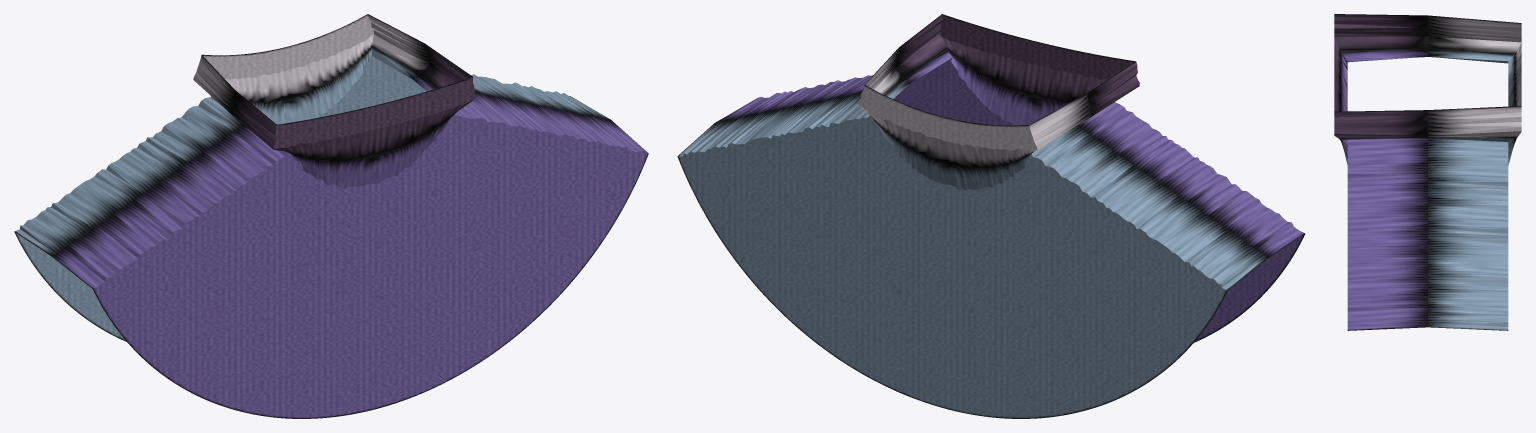
File: valid_garment_lower_boxmesh.obj
The picture shows the model from 3 angles, left to right: view 1: azimuth 30°, elevation 25°; view 2: azimuth 150°, elevation 25°; view 3: azimuth 270°, elevation 25°; orthographic projection. The views are drawn at different scales.
Bounding box in the file's own units: 123 × 66.32 × 35.
Materials: 1 (1 with a texture image).
